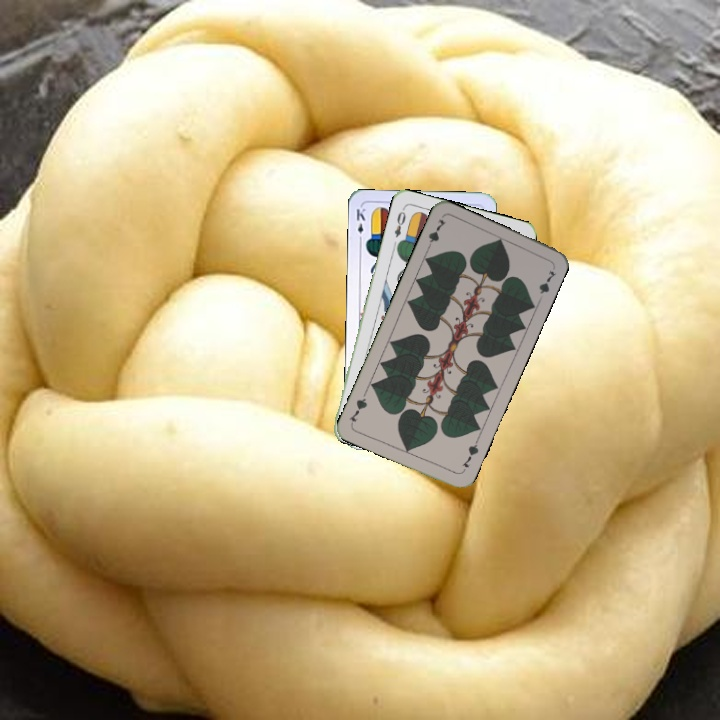EK: (352, 204, 368, 245)
EO: (390, 204, 409, 240)
G7: (423, 215, 449, 253), (458, 436, 481, 475)
